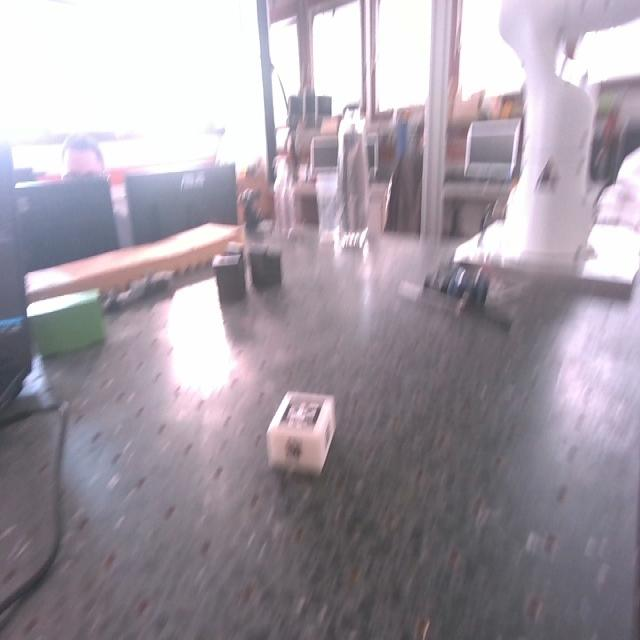Cube: (267, 392, 338, 479)
